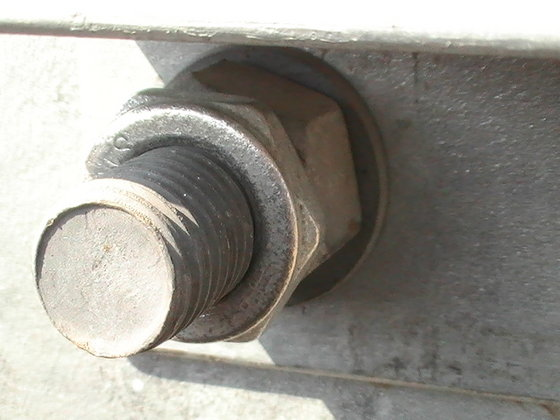bolt_b: (58, 87, 329, 346)
